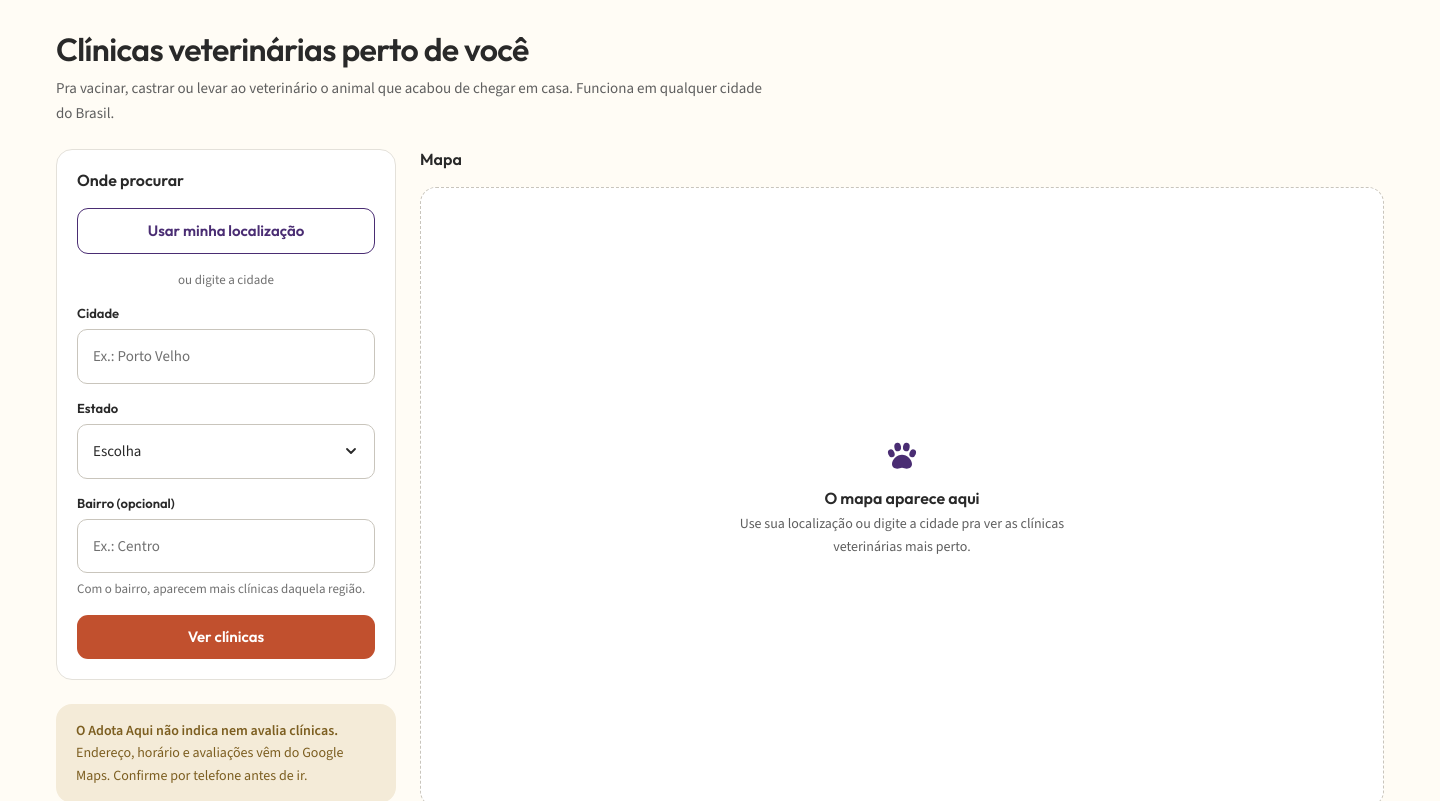
Test case: localização que demora demais ou falha: pede pra tentar de novo
This screenshot has width=1440, height=801.
Click the button "Usar minha localização" at (226,231), box [77, 208, 375, 254]
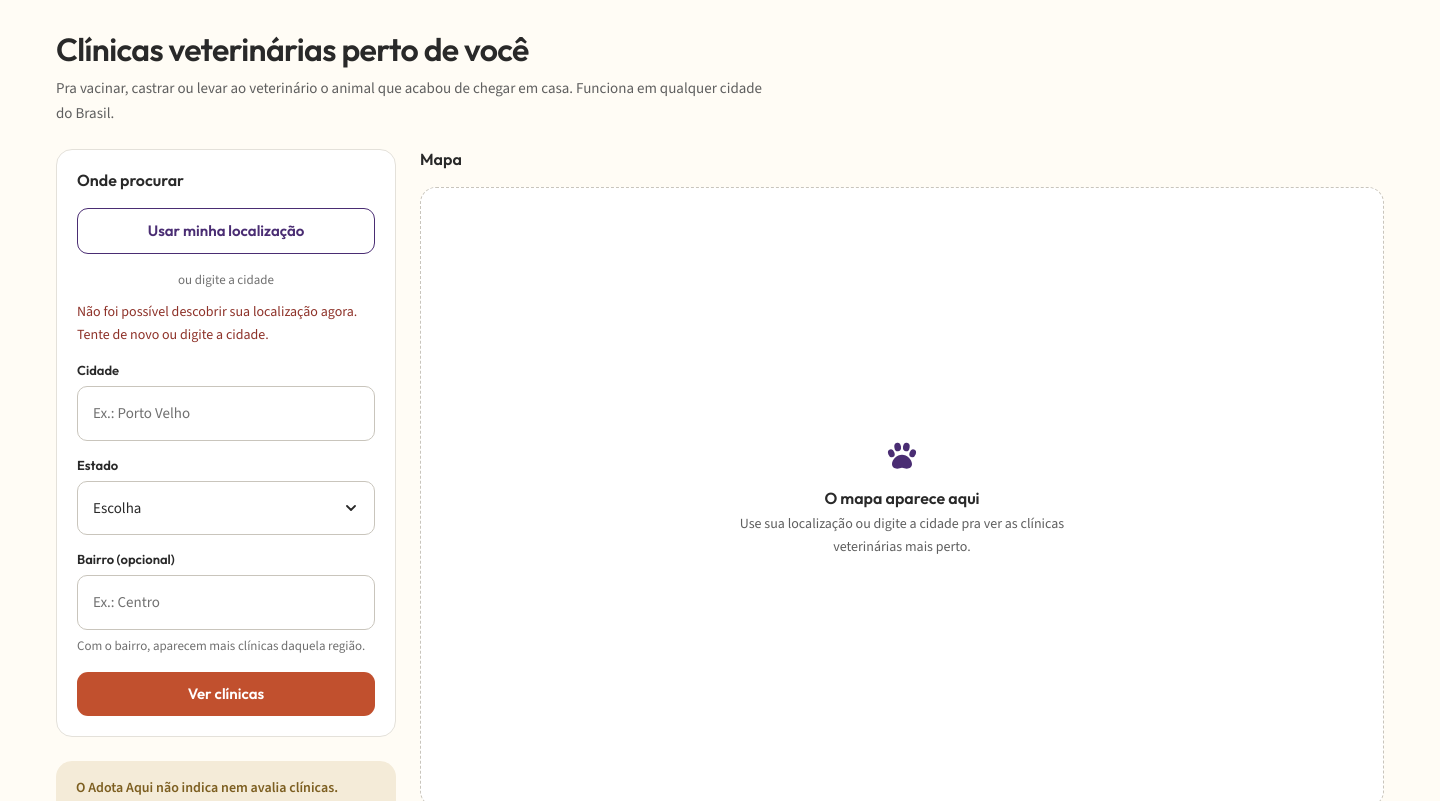
Result: the message shows "Não foi possível descobrir sua localização agora" at [77, 302, 357, 344]
